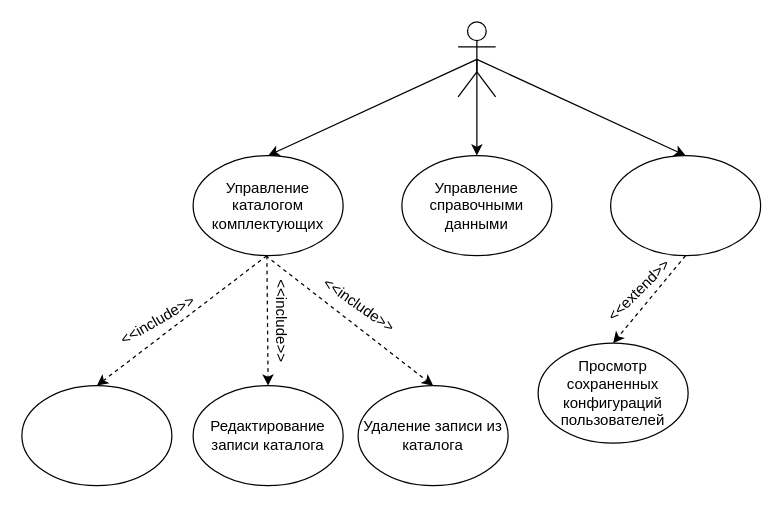
Some shapes in this 783 by 518 pixel diagram are drawn without their labels. Each missing label, with the centre of its shape:
"Администратор" belongs at [476,59].
"Добавление комплектующего в каталог" belongs at [96,435].
"Просмотр зарегистрированных пользователей" belongs at [685,205].
